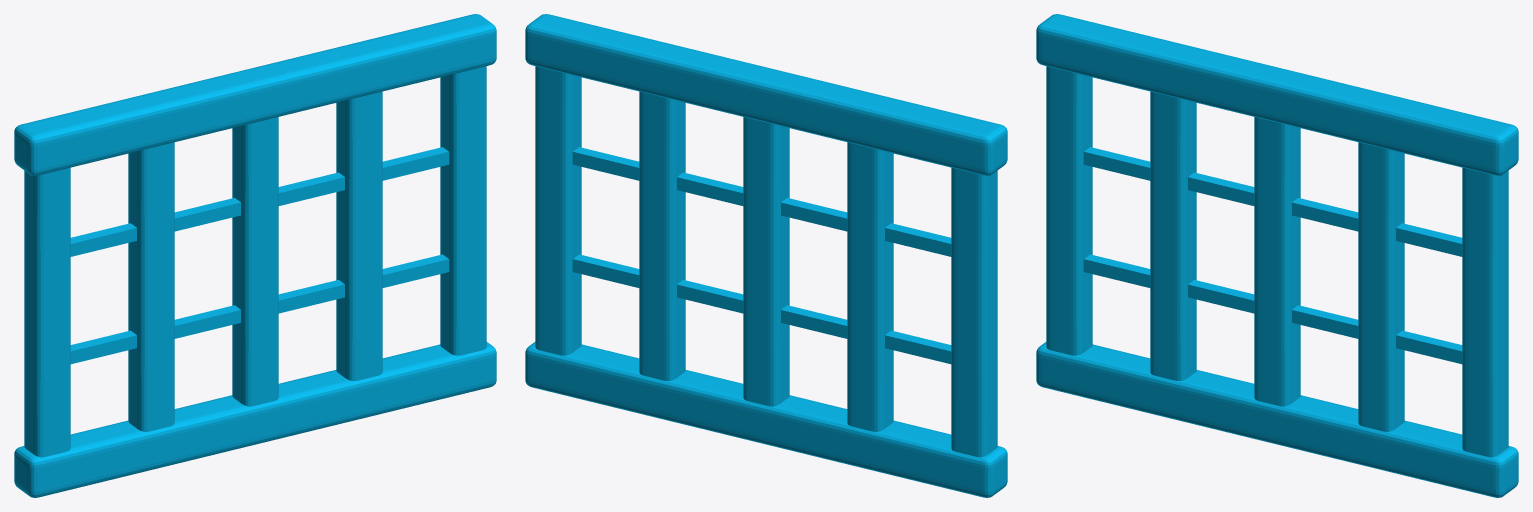
The model's file is SM_Wood_Window_01.fbx.
The picture shows the model from 3 angles, left to right: view 1: azimuth 30°, elevation 25°; view 2: azimuth 150°, elevation 25°; view 3: azimuth 330°, elevation 25°; orthographic projection.
Parts seen in each view (by area): view 1: SM_Wood_Window_01; view 2: SM_Wood_Window_01; view 3: SM_Wood_Window_01.
Boxes of the visible parts, bbox=[...] form: SM_Wood_Window_01: bbox=[14, 14, 496, 497]; SM_Wood_Window_01: bbox=[525, 14, 1007, 497]; SM_Wood_Window_01: bbox=[1036, 14, 1518, 497].
Bounding box in the file's own units: 1.55 × 1.15 × 0.1164.
